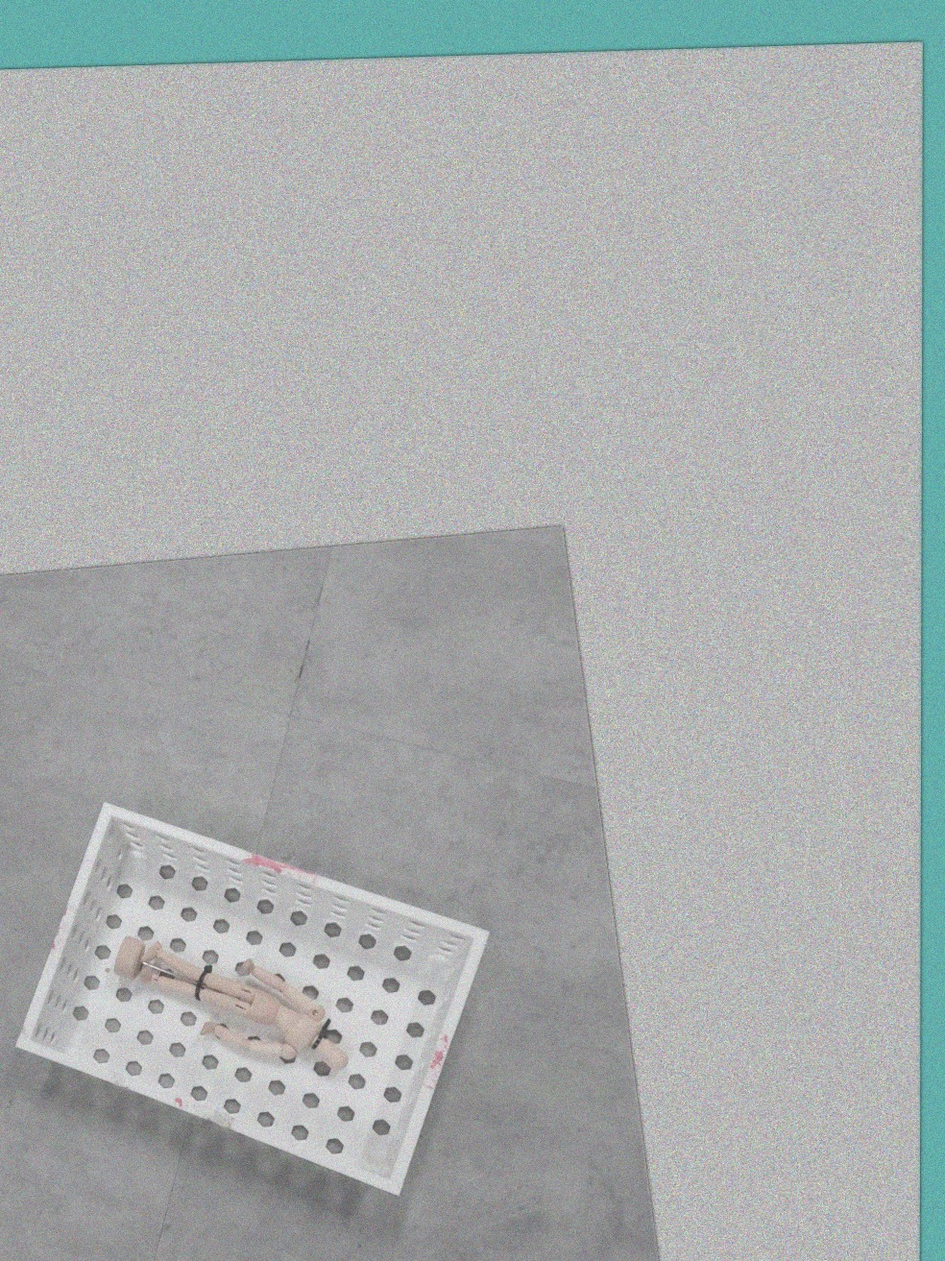basket: (9, 794, 494, 1203)
mannequin: (109, 933, 351, 1074)
